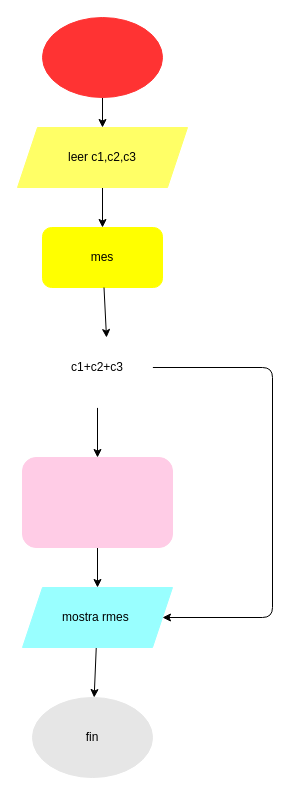
Some shapes in this 298 by 795 pixel diagram are drawn without their labels. The shapes that lost their labels are listed below. From the top down, each one's centre as x and y in pixels, then its label:
At point 102,57: "inicio".
At point 97,502: "c1 = c1+1.03 c2 = c2+1.04 mes = mes+1".
